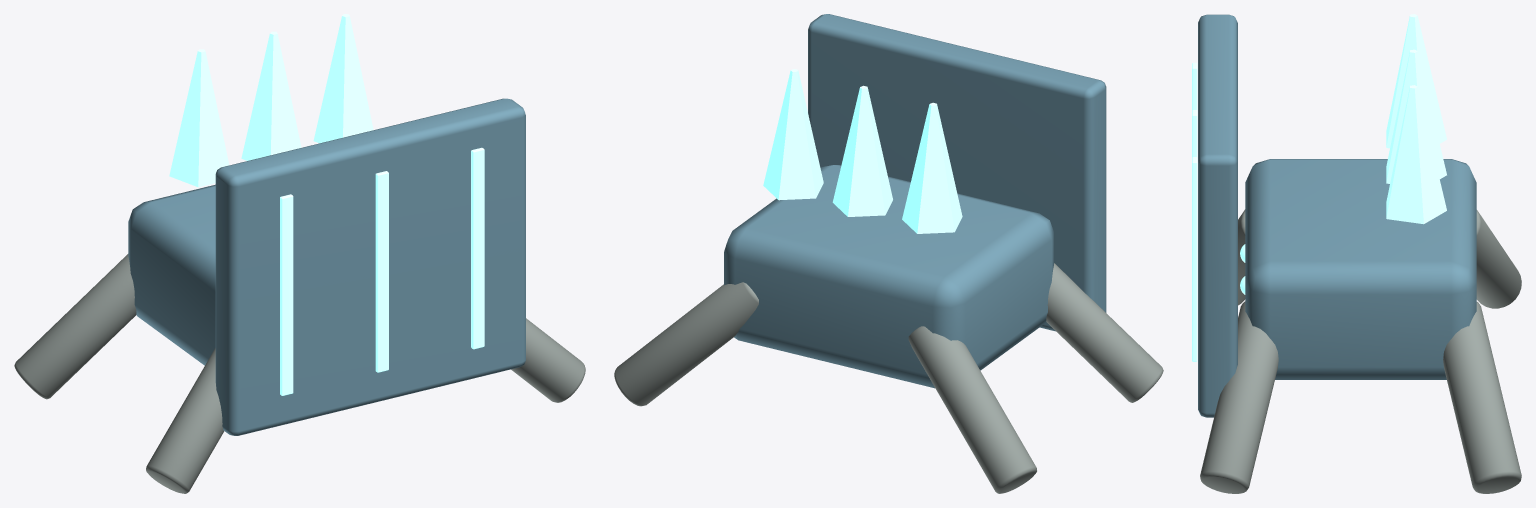
File: card_p1_tank.glb
The picture shows the model from 3 angles, left to right: view 1: azimuth 30°, elevation 25°; view 2: azimuth 150°, elevation 25°; view 3: azimuth 270°, elevation 25°; orthographic projection. The views are drawn at different scales.
Visible parts, largest first — view 1: card_p1_tank; view 2: card_p1_tank; view 3: card_p1_tank.
Part boxes in pixels (x1,y1,x2,y2): card_p1_tank: (14, 14, 585, 493); card_p1_tank: (614, 14, 1163, 493); card_p1_tank: (1192, 14, 1521, 493).
Size of the model in its own units: 2.4 by 1.83 by 1.57.
